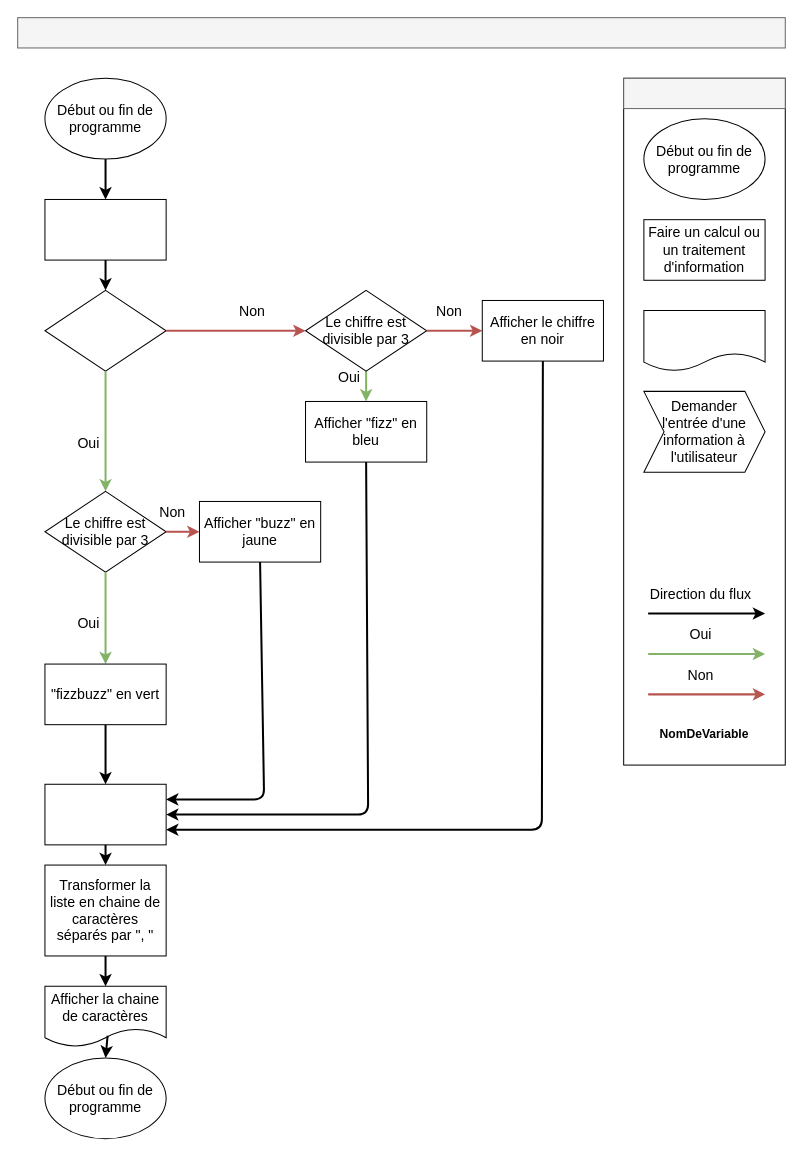
This 803x1156 diagram has some shape labels left out. The shapes that lost their labels are listed below. From the top down, each one's centre as x and y in pixels, then its label:
the point at 401,32: Diagramme de flux --- FIZZ BUZZ
the point at 704,93: Légende
the point at 105,229: Pour tous les chiffres allant de 1 à 100
the point at 105,330: Le chiffre est divisible par 5
the point at 704,340: Afficher un message
the point at 105,814: Ajouter le résultat (chiffre ou texte) à la liste
